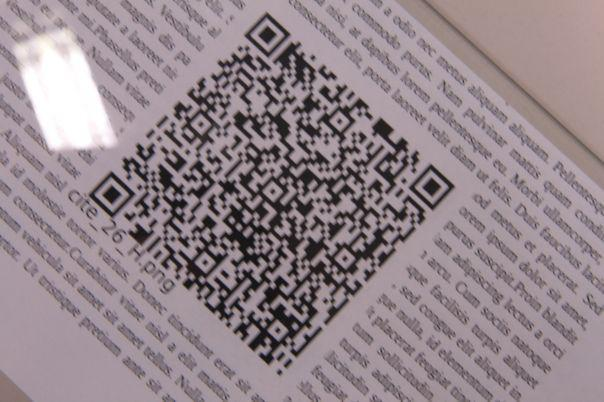Finder pattern: (410, 163, 456, 212), (88, 171, 134, 219), (245, 11, 291, 58)
